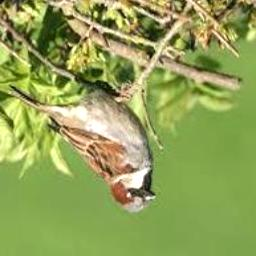Sparrow: (7, 83, 157, 212)
